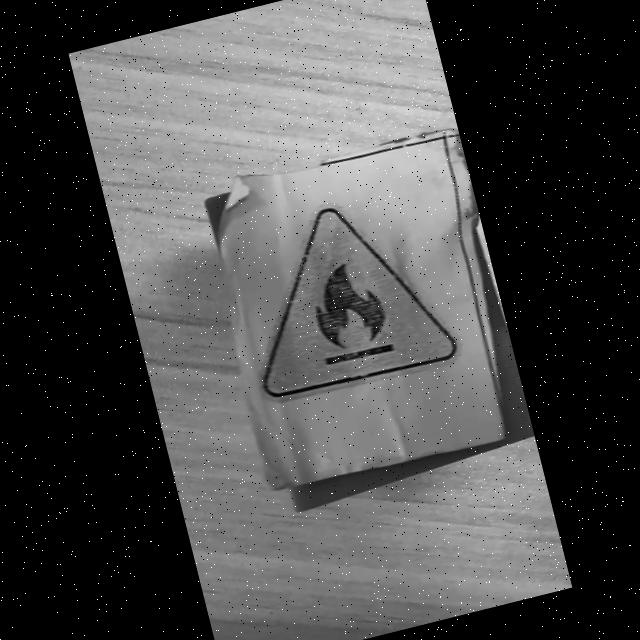Fire: (263, 206, 456, 400)
